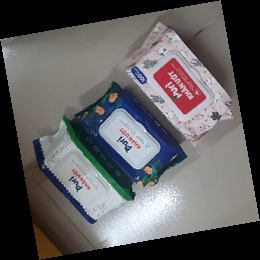Puri Trang: (31, 114, 137, 227)
Puri Xanh: (72, 82, 191, 192)
Puri hong: (116, 21, 237, 153)
